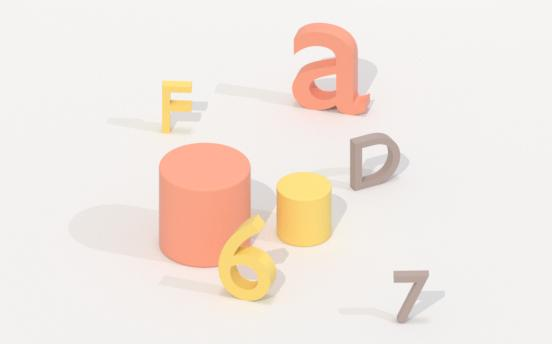6: (216, 212, 278, 303)
7: (391, 267, 432, 327)
F: (157, 75, 195, 137)
a: (290, 20, 374, 122)
d: (345, 129, 404, 197)
tru: (156, 140, 255, 271), (272, 170, 334, 252)
